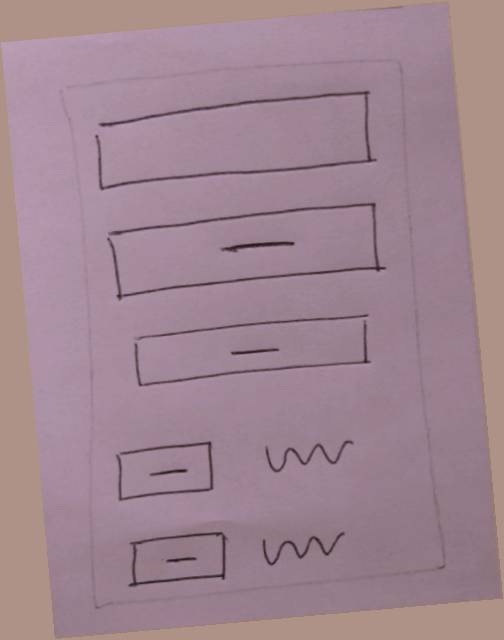button: (97, 198, 394, 306), (123, 306, 378, 398), (109, 435, 227, 511), (119, 519, 236, 595)
text: (255, 423, 363, 483), (252, 515, 360, 575)
text_input: (88, 87, 383, 202)
